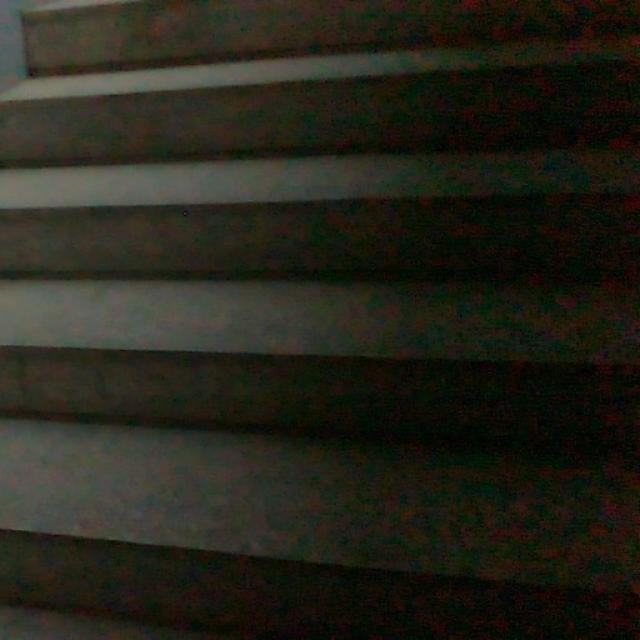stair: (2, 2, 640, 640)
